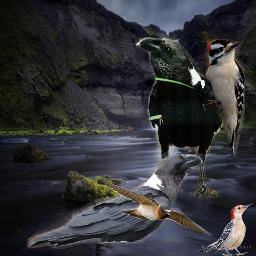Crow: (27, 154, 203, 249), (135, 37, 224, 198)
Swallow: (98, 177, 213, 236)
Woodpecker: (203, 39, 245, 156), (195, 202, 254, 256)
